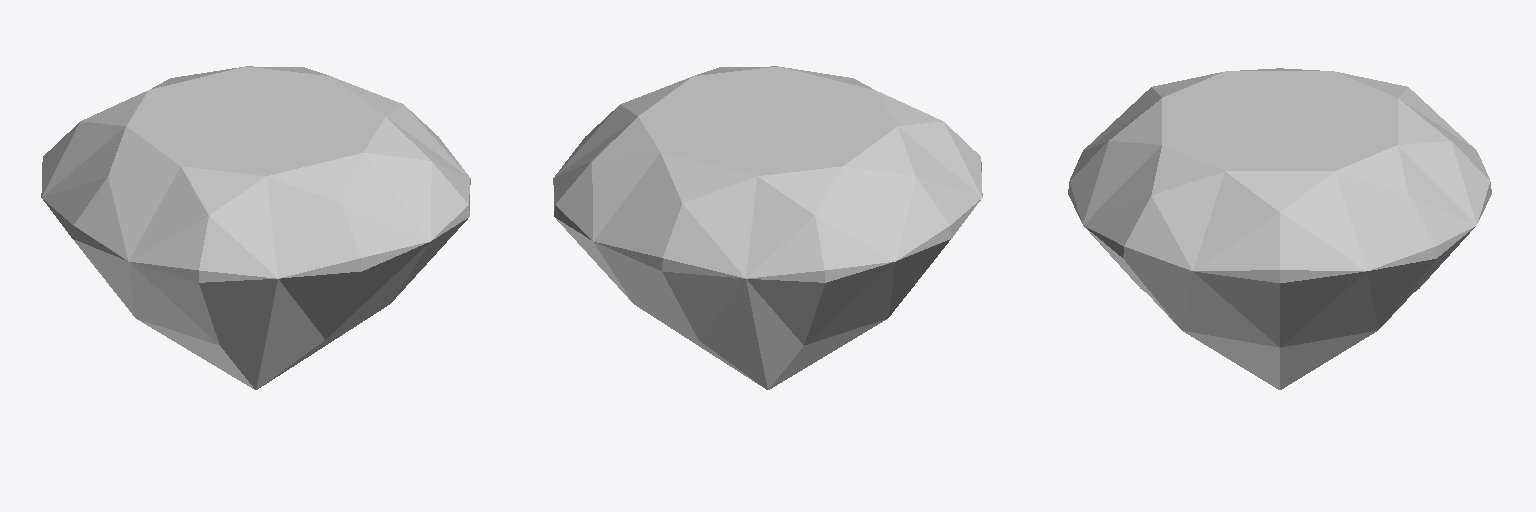
Rendered from GemCOLOURED.obj.
3 views of the same model, side by side, from view 1: azimuth 30°, elevation 25°; view 2: azimuth 150°, elevation 25°; view 3: azimuth 270°, elevation 25° (orthographic).
Visible parts, largest first — view 1: Cube; view 2: Cube; view 3: Cube.
Boxes of the visible parts, box(x1,y1,x2,y2) form: Cube: box(41, 66, 470, 389); Cube: box(553, 66, 982, 389); Cube: box(1068, 68, 1491, 389).
Size of the model in its own units: 2.24 by 1.57 by 2.24.